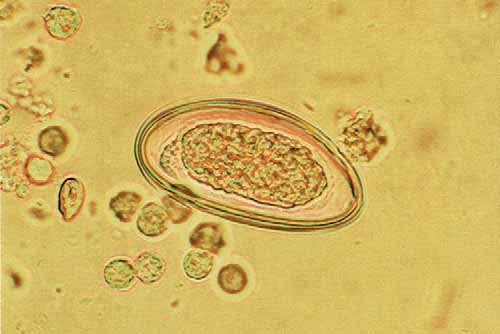Parasite: (128, 90, 370, 248)
